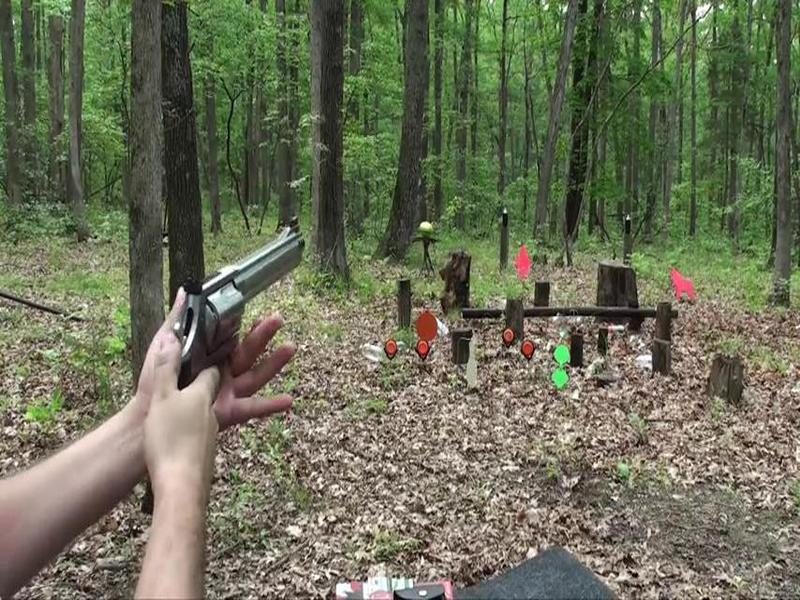Revolver: (142, 221, 346, 454)
